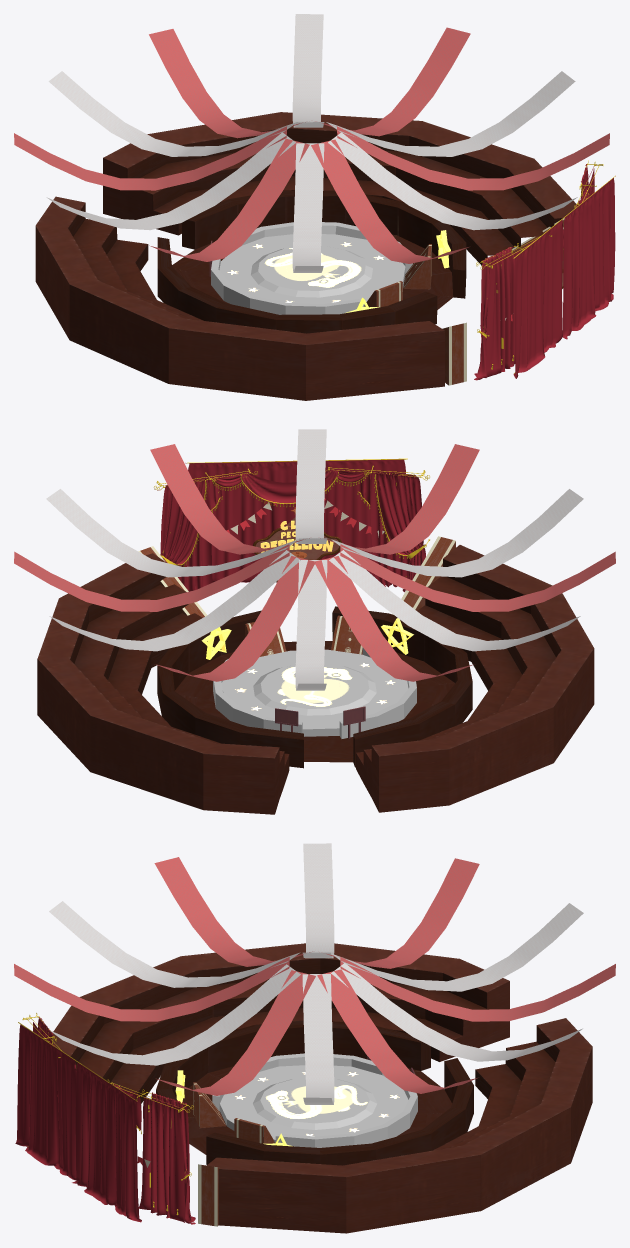
File: Level01.fbx
3 views of the same model, one above another, from view 1: azimuth 30°, elevation 25°; view 2: azimuth 150°, elevation 25°; view 3: azimuth 270°, elevation 25° (orthographic).
Visible parts, largest first — view 1: Plane.005, Cylinder, Cylinder.006, curtain_20, base, Platform_Low, Plane.008, StairSmallRound.001, StairSmallRound; view 2: Plane.005, Cylinder, Cylinder.006, curtain_20, base, Platform_Low, Plane.008, Plane.011, StairSmallRound, Text.018, Plane.010, Plane.014; view 3: Plane.005, Cylinder.006, Cylinder, curtain_20, base, Platform_Low, Plane.010, StairSmallRound, StairSmallRound.001.
Boxes of the visible parts, x1=… form: Plane.005: x1=14, y1=14, x2=609, y2=272; Cylinder: x1=35, y1=196, x2=444, y2=400; Cylinder.006: x1=103, y1=112, x2=576, y2=265; curtain_20: x1=474, y1=160, x2=615, y2=380; base: x1=157, y1=190, x2=466, y2=333; Platform_Low: x1=211, y1=222, x2=412, y2=314; Plane.008: x1=442, y1=322, x2=466, y2=385; StairSmallRound.001: x1=404, y1=244, x2=431, y2=289; StairSmallRound: x1=364, y1=281, x2=402, y2=307; Plane.005: x1=14, y1=429, x2=615, y2=690; Cylinder: x1=356, y1=545, x2=594, y2=812; Cylinder.006: x1=37, y1=553, x2=289, y2=814; curtain_20: x1=154, y1=458, x2=429, y2=592; base: x1=157, y1=606, x2=472, y2=768; Platform_Low: x1=213, y1=647, x2=416, y2=738; Plane.008: x1=392, y1=536, x2=455, y2=614; Plane.011: x1=253, y1=525, x2=341, y2=559; StairSmallRound: x1=331, y1=615, x2=362, y2=654; Text.018: x1=260, y1=520, x2=333, y2=552; Plane.010: x1=138, y1=546, x2=207, y2=617; Plane.014: x1=226, y1=498, x2=384, y2=537; Plane.005: x1=14, y1=843, x2=615, y2=1104; Cylinder.006: x1=207, y1=1018, x2=592, y2=1233; Cylinder: x1=53, y1=943, x2=509, y2=1103; curtain_20: x1=15, y1=1013, x2=195, y2=1224; base: x1=156, y1=1020, x2=473, y2=1165; Platform_Low: x1=212, y1=1053, x2=417, y2=1147; Plane.010: x1=198, y1=1164, x2=218, y2=1226; StairSmallRound: x1=193, y1=1082, x2=225, y2=1128; StairSmallRound.001: x1=234, y1=1118, x2=274, y2=1143.
Size of the model in its own units: 5674 by 1590 by 5674.
